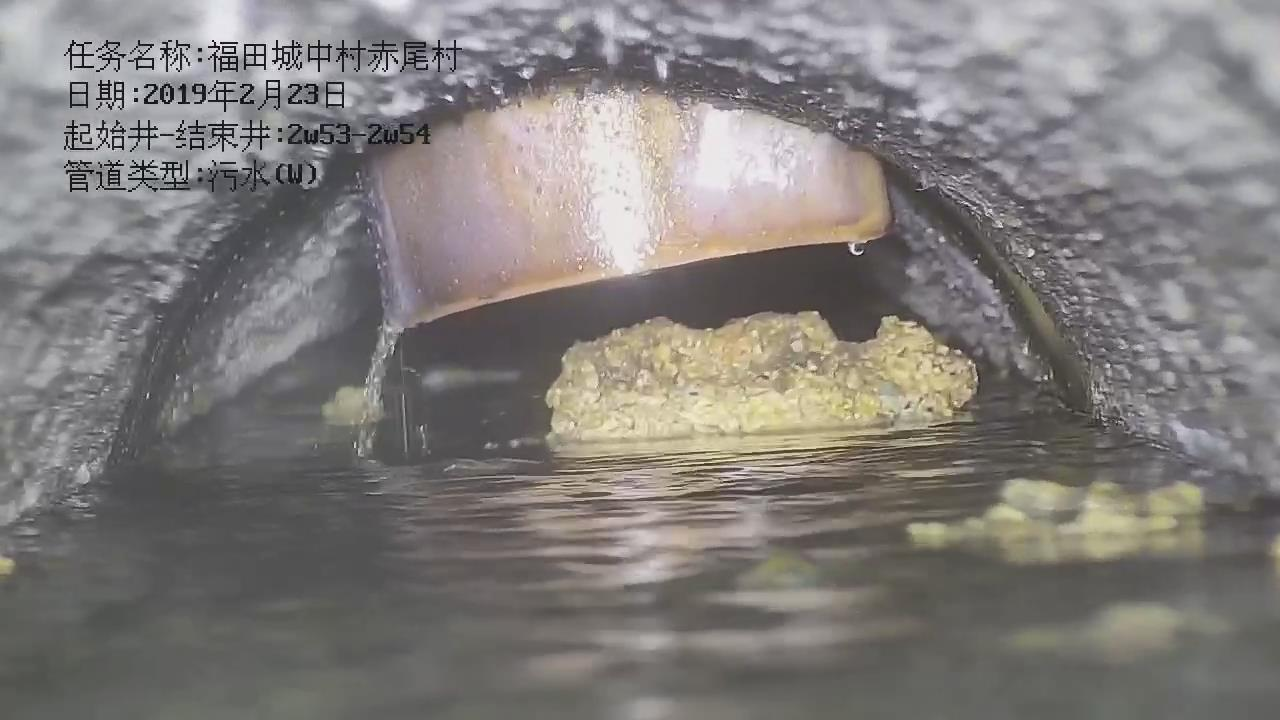ZGAJ: (367, 89, 889, 327)
